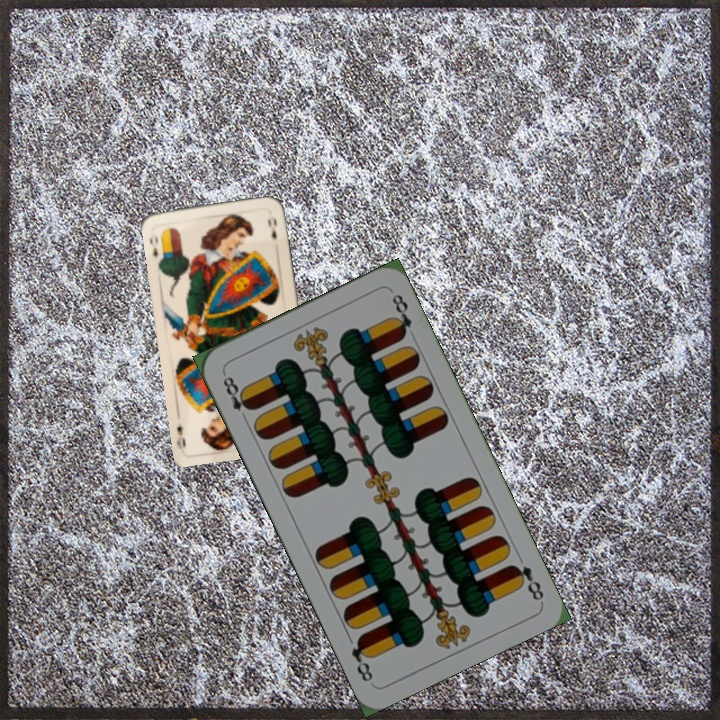E8: (219, 368, 255, 424), (506, 560, 547, 604)
EO: (145, 232, 161, 261)
